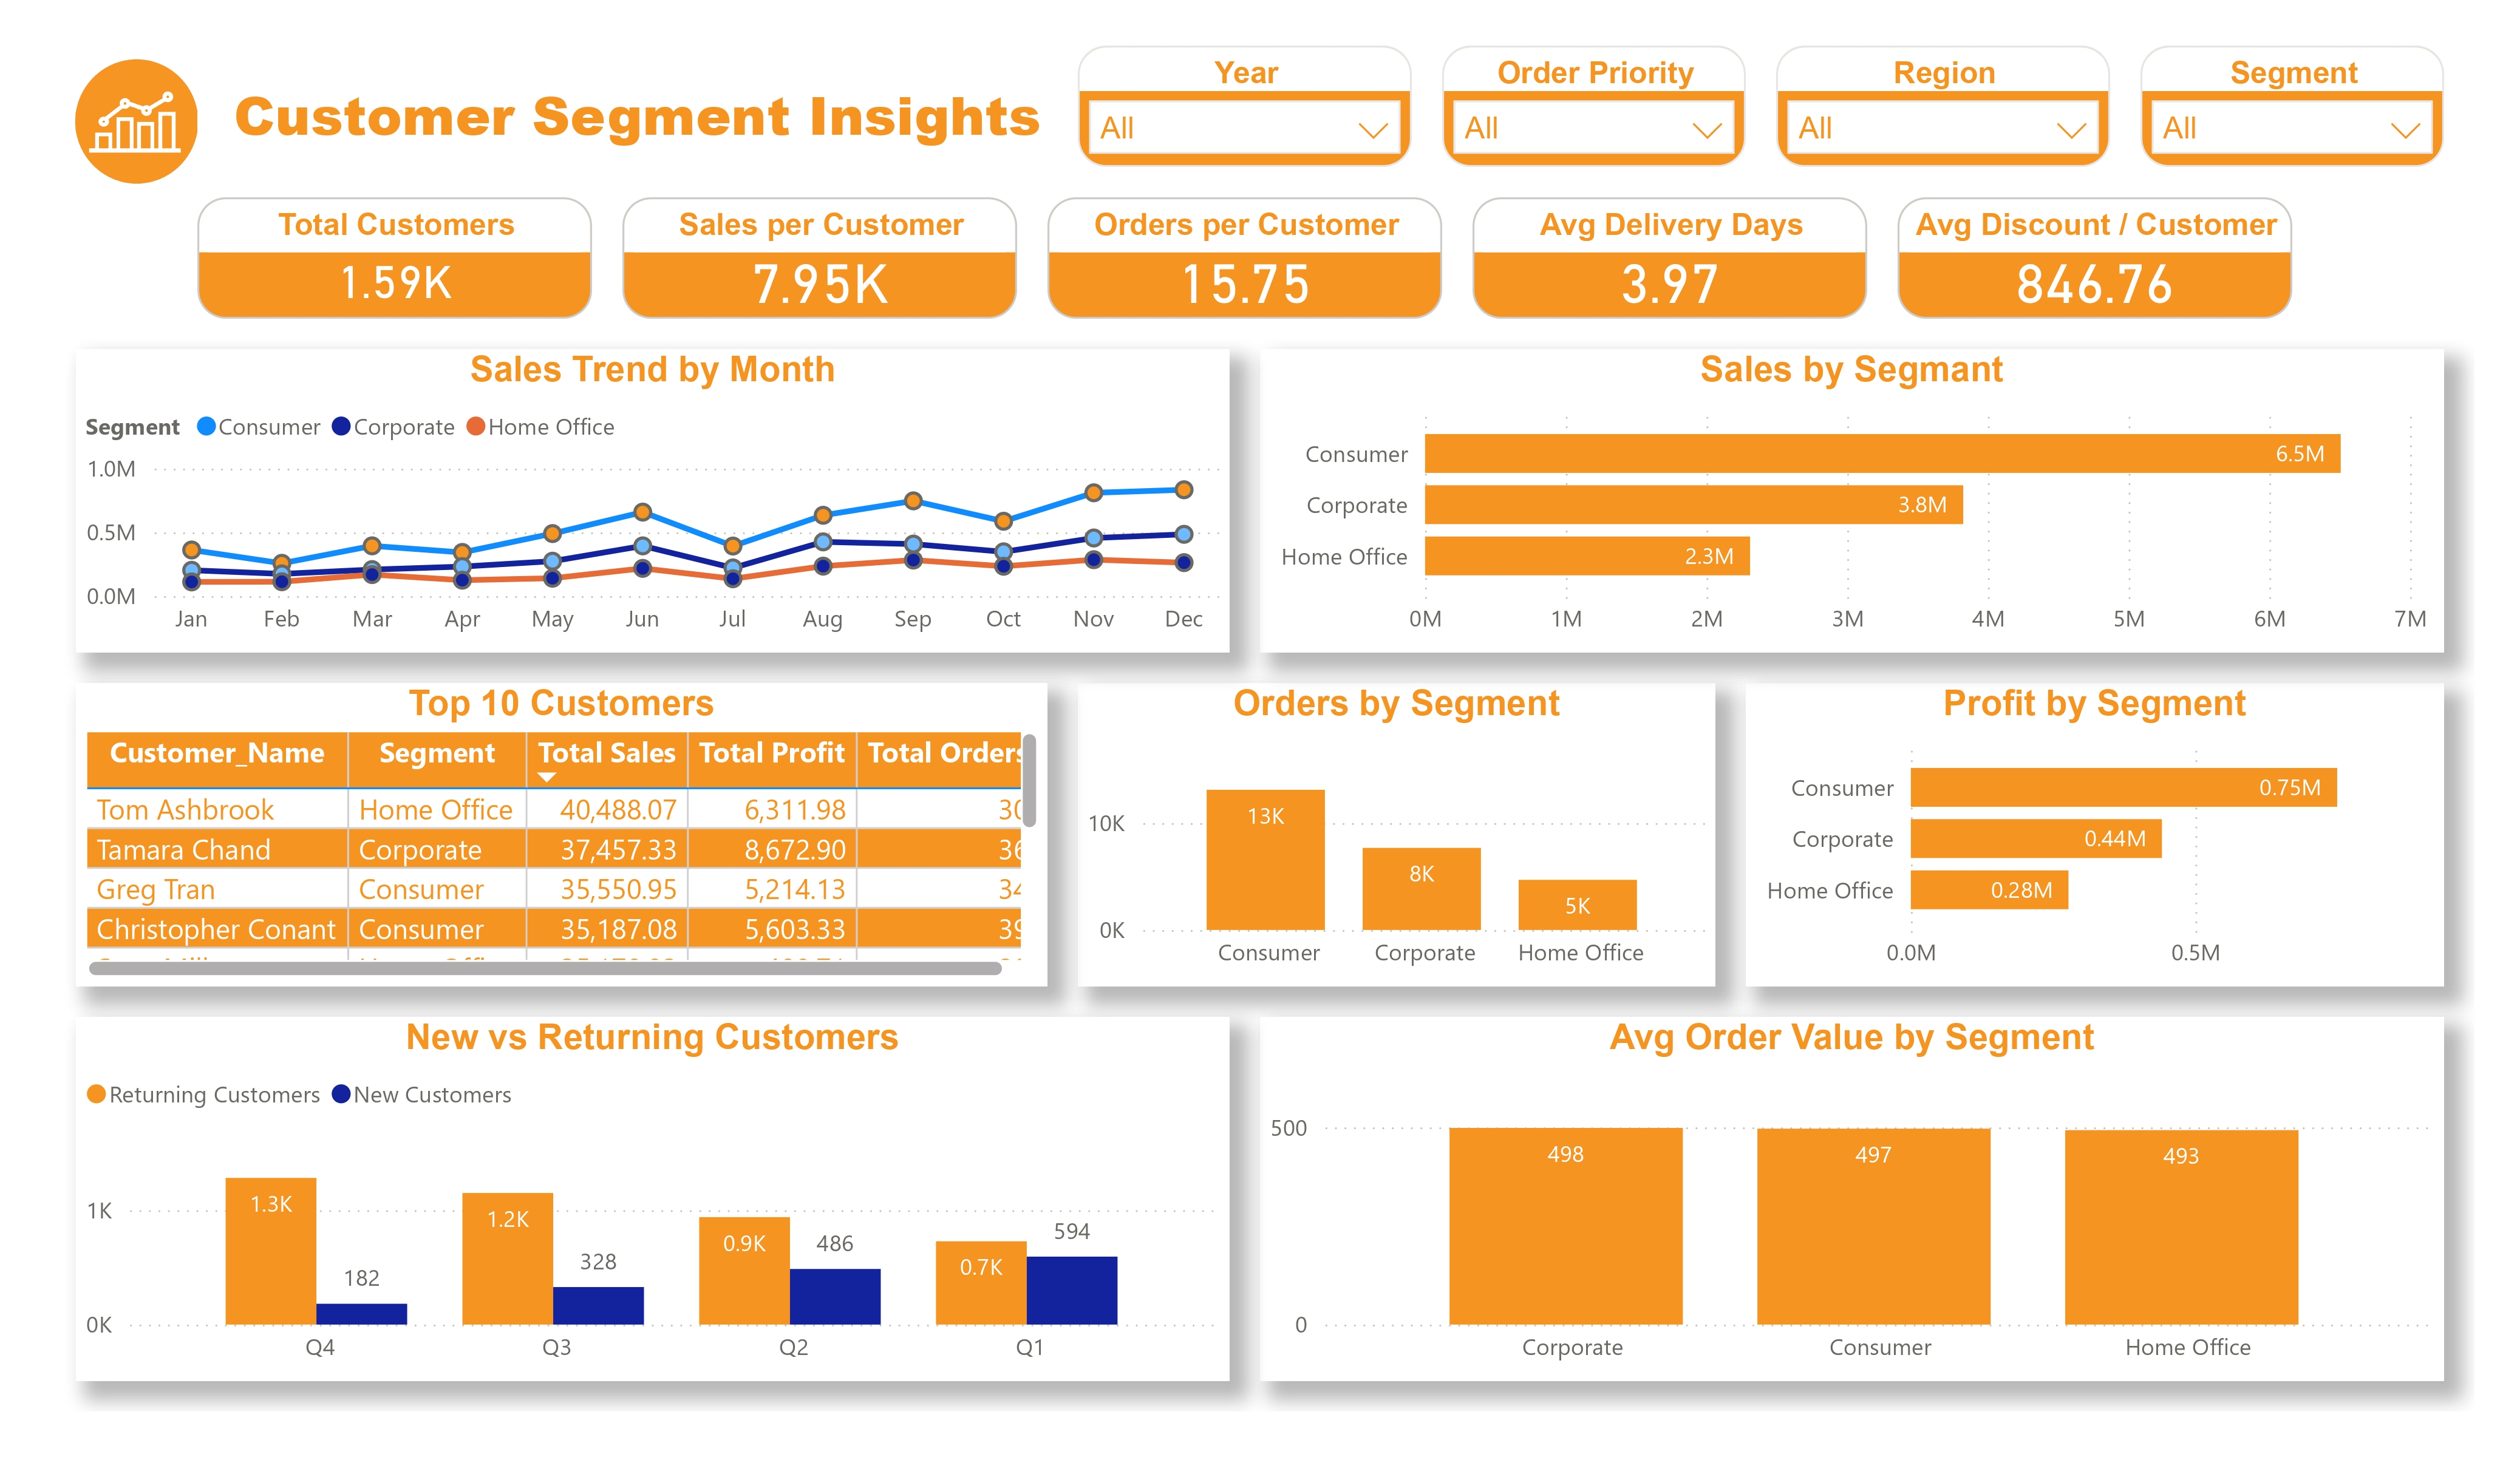

This screenshot's page, from the dashboard's own definition file:
{"tool":"powerbi","page":{"name":"Customer","canvas":[1280,720],"ordinal":2},"visuals":[{"type":"image","box":[0,0,96,80],"z":0},{"type":"textbox","title":"Customer Segment Insights","box":[80,16,464,48],"z":1000},{"type":"slicer","title":"Year","fields":{"Values":["date_table.Year"]},"box":[544,0,176,64],"z":2000},{"type":"slicer","title":"Order Priority","fields":{"Values":["fact_sales.Order_Priority"]},"box":[736,0,160,64],"z":3000},{"type":"slicer","title":"Region","fields":{"Values":["dim_geography.Region"]},"box":[912,0,176,64],"z":4000},{"type":"slicer","title":"Segment","fields":{"Values":["dim_customer.Segment"]},"box":[1104,0,160,64],"z":5000},{"type":"card","title":"Total Customers","fields":{"Values":["Count(dim_customer.Customer_ID)"]},"box":[80,80,208,64],"z":6000},{"type":"card","title":"Sales per Customer","fields":{"Values":["fact_sales.Sales per Customer"]},"box":[304,80,208,64],"z":7000},{"type":"card","title":"Orders per Customer","fields":{"Values":["fact_sales.Orders per Customer"]},"box":[528,80,208,64],"z":8000},{"type":"card","title":"Avg Delivery Days","fields":{"Values":["fact_sales.Avg Delivery Days"]},"box":[752,80,208,64],"z":9000},{"type":"card","title":"Avg Discount / Customer","fields":{"Values":["fact_sales.Avg Discount per Customer"]},"box":[976,80,208,64],"z":10000},{"type":"clusteredColumnChart","title":"Orders by Segment","fields":{"Y":["fact_sales.Total Orders"],"Category":["dim_customer.Segment"]},"box":[544,336,336,160],"z":11000},{"type":"clusteredBarChart","title":"Profit by Segment","fields":{"Category":["dim_customer.Segment"],"Y":["fact_sales.Total Profit"]},"box":[896,336,368,160],"z":12000},{"type":"clusteredBarChart","title":"Sales by Segmant","fields":{"Category":["dim_customer.Segment"],"Y":["fact_sales.Total Sales"]},"box":[640,160,624,160],"z":13000},{"type":"clusteredColumnChart","title":"Avg Order Value by Segment","fields":{"Category":["dim_customer.Segment"],"Y":["fact_sales.Avg Order Value"]},"box":[640,512,624,192],"z":14000},{"type":"lineChart","title":"Sales Trend by Month","fields":{"Category":["date_table.Month Name"],"Y":["fact_sales.Total Sales"],"Series":["dim_customer.Segment"]},"box":[16,160,608,160],"z":15000},{"type":"tableEx","title":"Top 10 Customers","fields":{"Values":["dim_customer.Customer_Name","dim_customer.Segment","fact_sales.Total Sales","fact_sales.Total Profit","fact_sales.Total Orders"]},"box":[16,336,512,160],"z":16000},{"type":"clusteredColumnChart","title":"New vs Returning Customers","fields":{"Y":["fact_sales.Returning Customers","fact_sales.New Customers"],"Category":["date_table.Quarter"]},"box":[16,512,608,192],"z":17000}]}

Visuals, with their boxes on the page's 1280x720 design canvas (x1, y1, x2, y2). These are canvas units, not pixel positions in the 2520x1457 screenshot, which may show the page scaled, cropped or inside an application window:
image: [0, 0, 96, 80]
"Customer Segment Insights" textbox: [80, 16, 544, 64]
"Year" slicer: [544, 0, 720, 64]
"Order Priority" slicer: [736, 0, 896, 64]
"Region" slicer: [912, 0, 1088, 64]
"Segment" slicer: [1104, 0, 1264, 64]
"Total Customers" card: [80, 80, 288, 144]
"Sales per Customer" card: [304, 80, 512, 144]
"Orders per Customer" card: [528, 80, 736, 144]
"Avg Delivery Days" card: [752, 80, 960, 144]
"Avg Discount / Customer" card: [976, 80, 1184, 144]
"Orders by Segment" clusteredColumnChart: [544, 336, 880, 496]
"Profit by Segment" clusteredBarChart: [896, 336, 1264, 496]
"Sales by Segmant" clusteredBarChart: [640, 160, 1264, 320]
"Avg Order Value by Segment" clusteredColumnChart: [640, 512, 1264, 704]
"Sales Trend by Month" lineChart: [16, 160, 624, 320]
"Top 10 Customers" tableEx: [16, 336, 528, 496]
"New vs Returning Customers" clusteredColumnChart: [16, 512, 624, 704]
